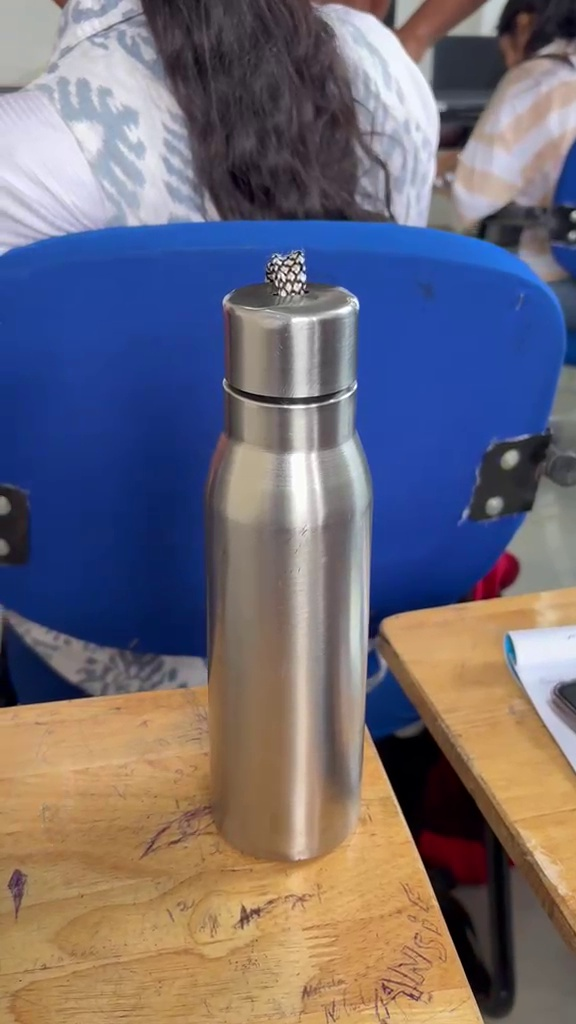Bottle: (204, 234, 392, 878)
